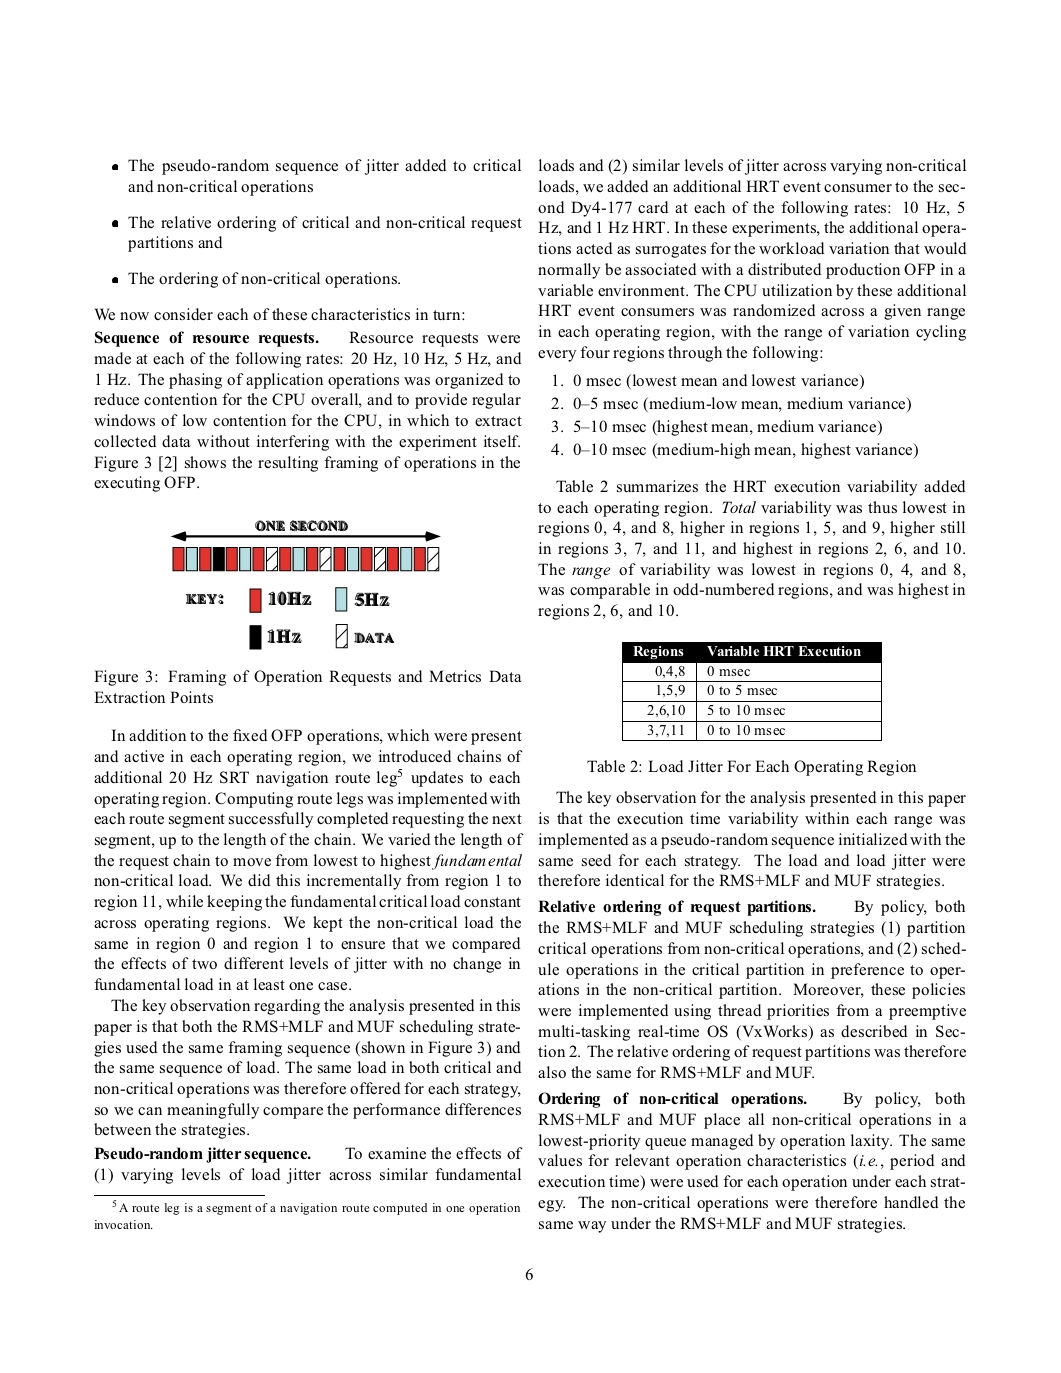Table: (622, 641, 880, 741)
figure: (171, 520, 440, 649)
